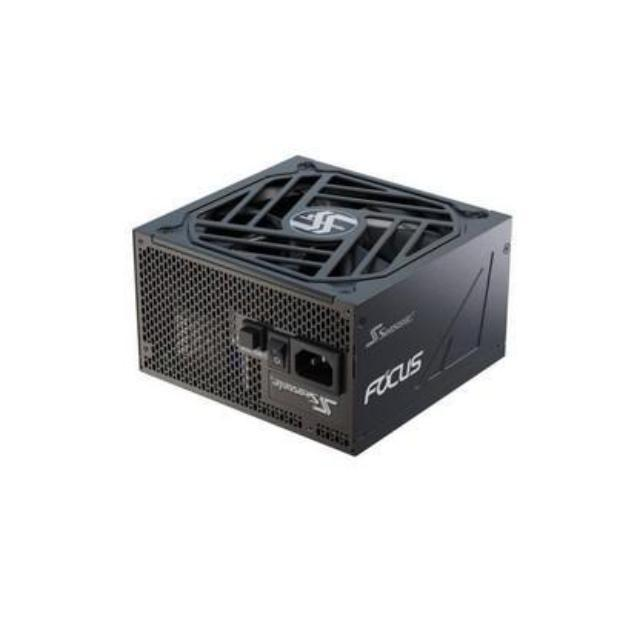PSU: (130, 144, 521, 458)
